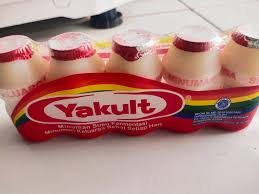Yakult (325ml): (0, 24, 258, 145)
